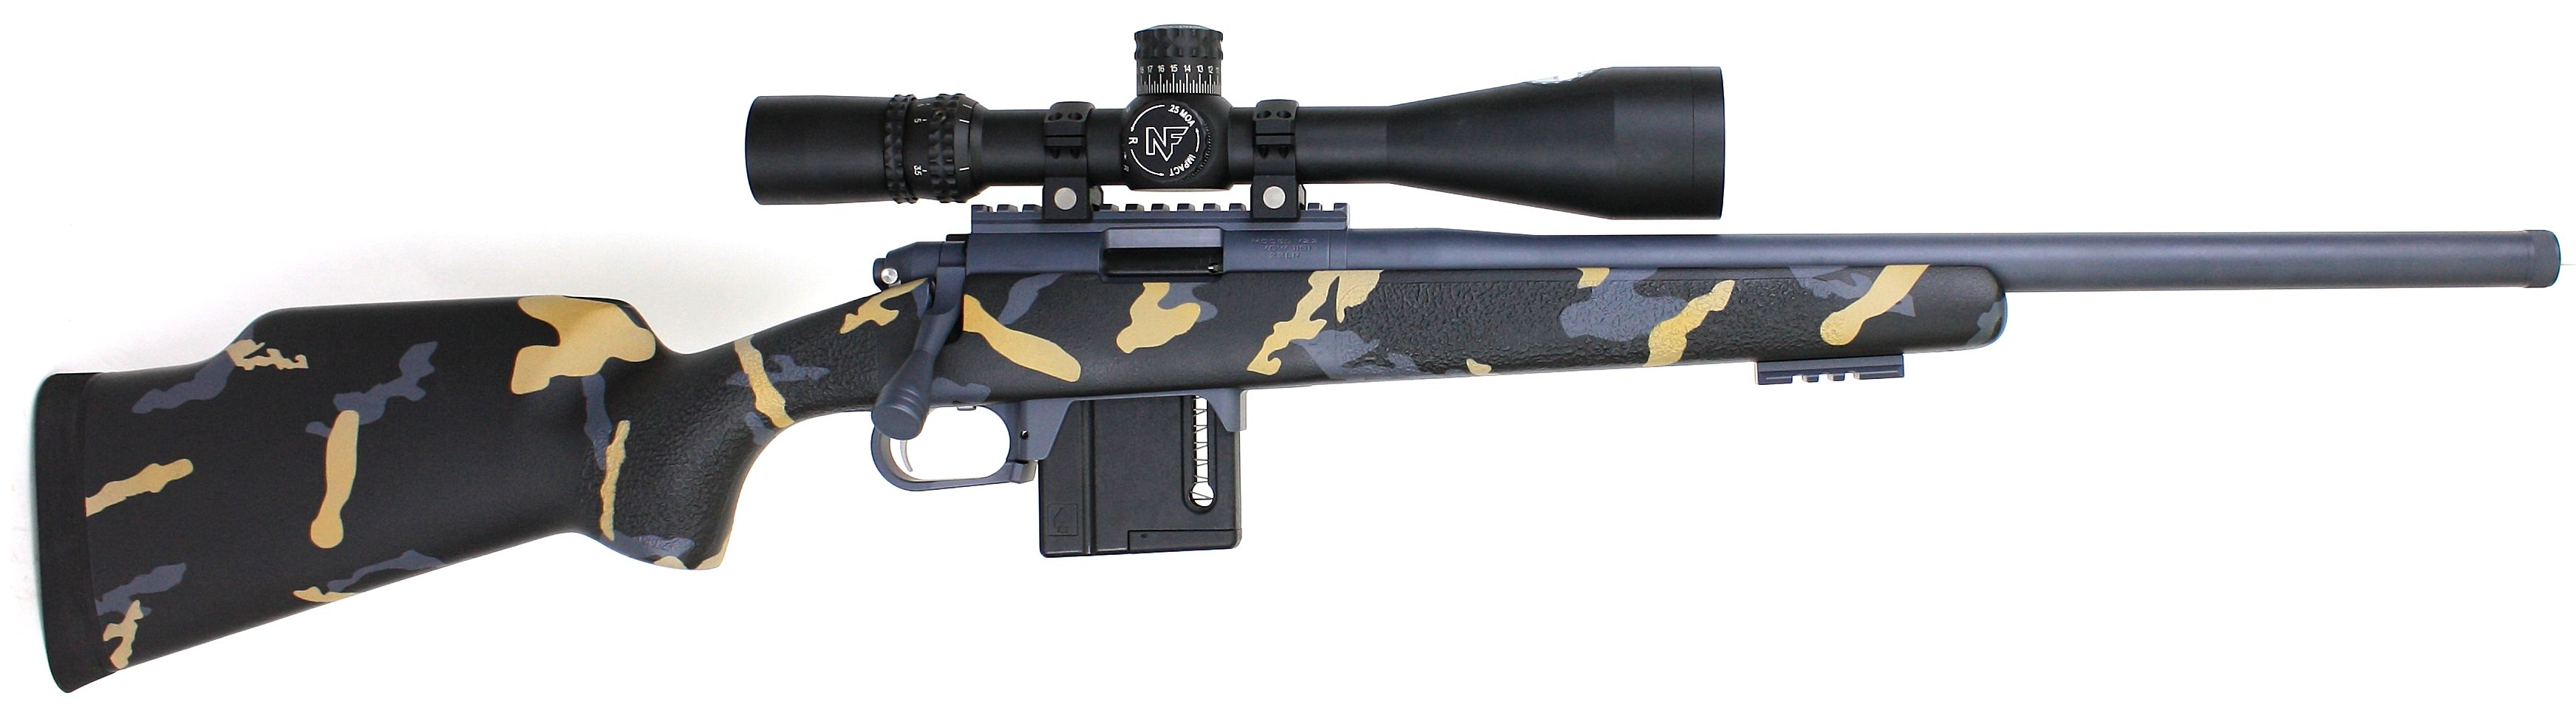Gun: (626, 48, 1796, 608)
